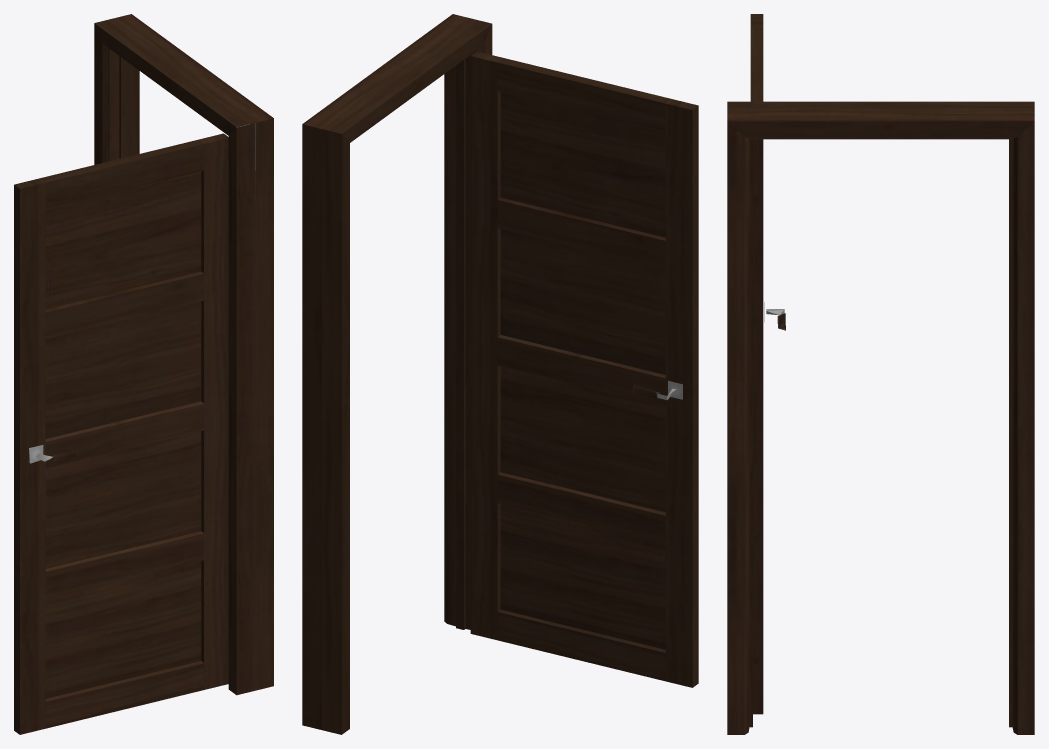
The model's file is Door0015open.obj.
3 renders of one model, left to right at view 1: azimuth 30°, elevation 25°; view 2: azimuth 150°, elevation 25°; view 3: azimuth 270°, elevation 25°, orthographic. The views are drawn at different scales.
Bounding box in the file's own units: 0.951 × 2.12 × 0.964.
1 material, 1 textured.
